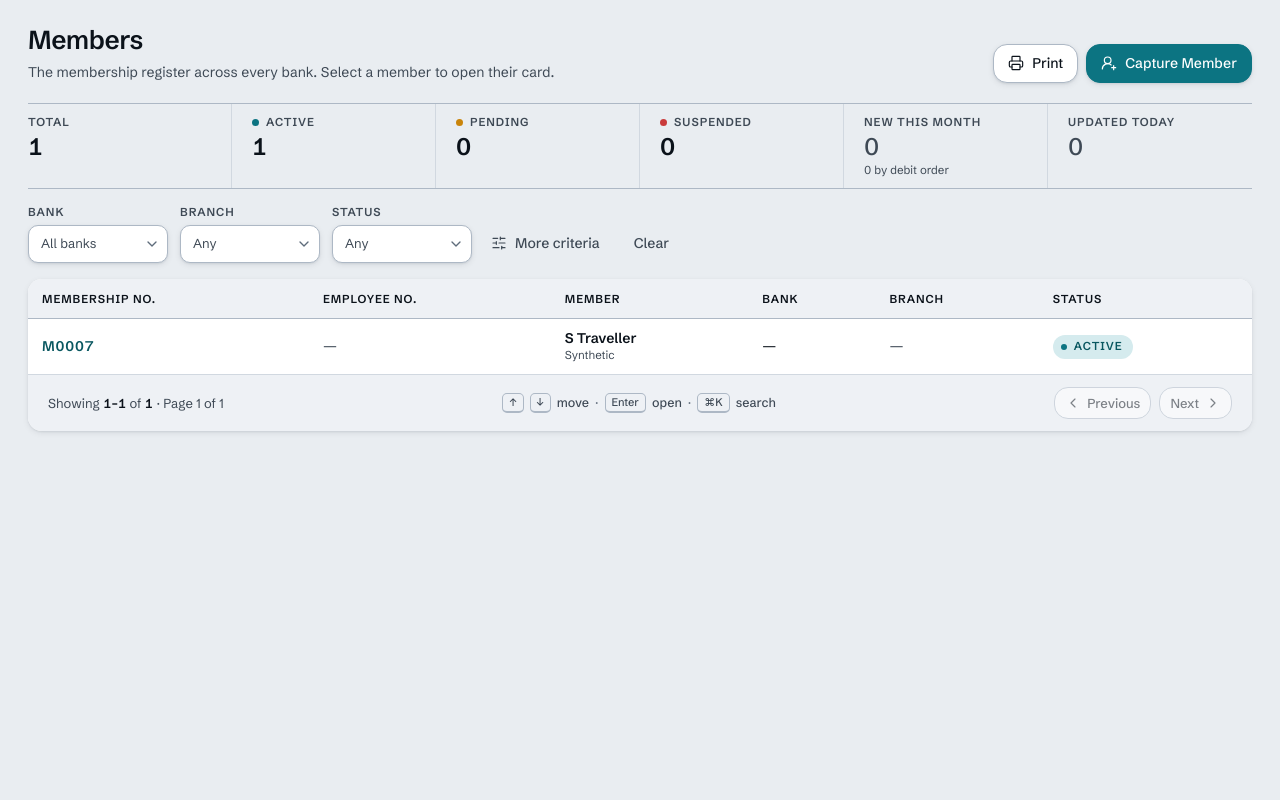
Scenario: the dates on a member record › ① a passport holder’s date of birth reads as a date, not as run-together digits
This screenshot has width=1280, height=800.
Click the button named "open the record for". click: (68, 346)
box: [42,336,94,357]
(page scrolled)
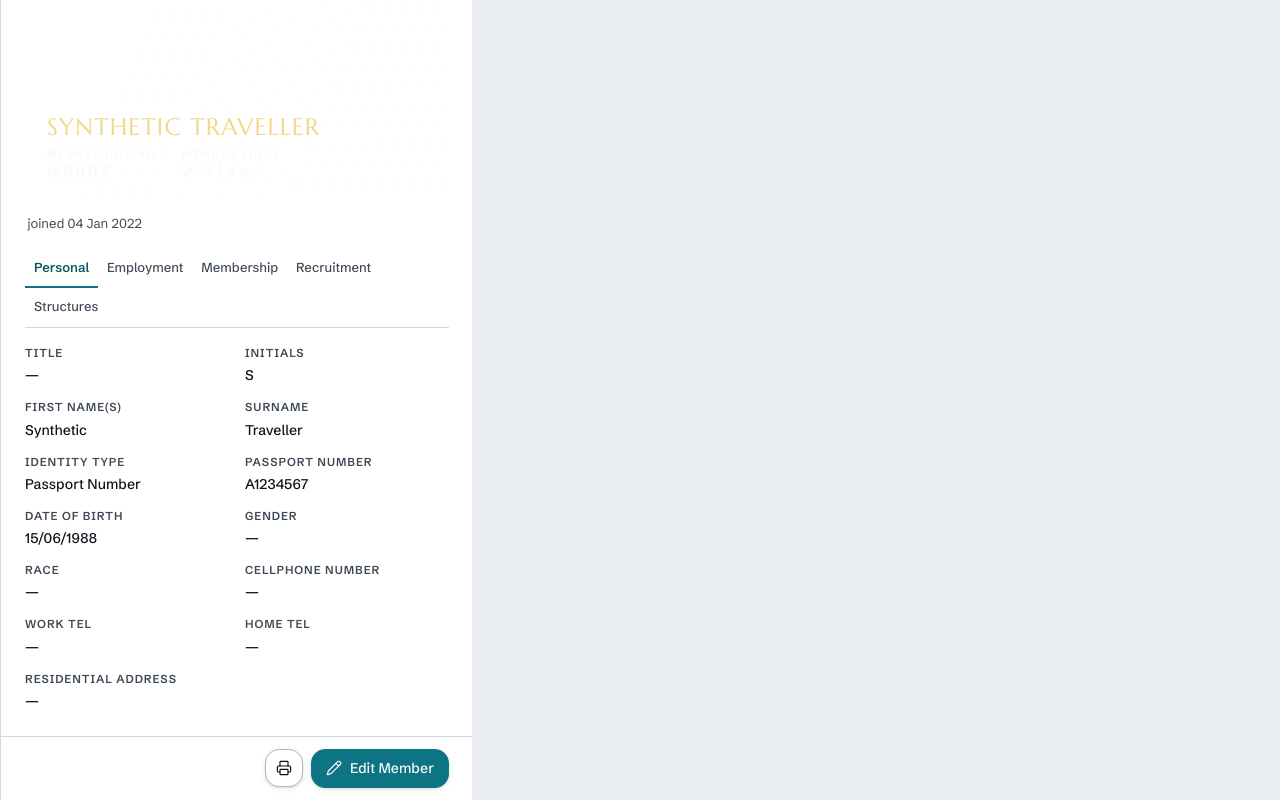
expect the text "Date of Birth" is shown: met, box [25,509,123,523]
expect the text "15/06/1988" is shown: met, box [25,529,97,547]
